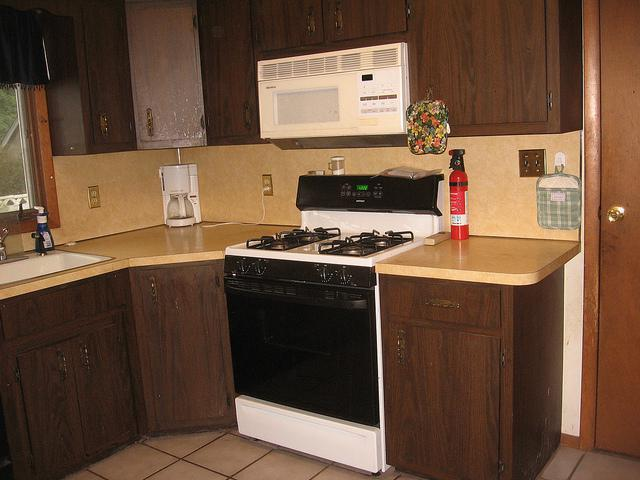Lavaplatos: (0, 211, 117, 313)
